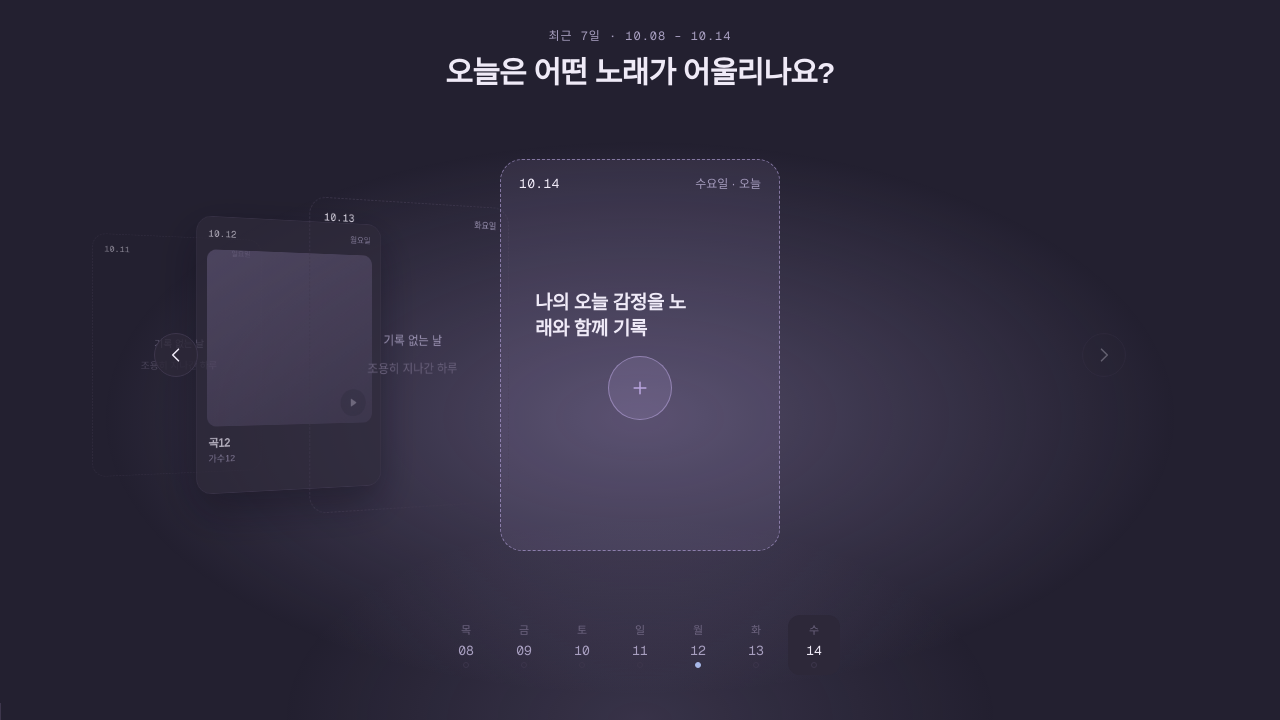
Test: HomeView › headline › looks back at the week when a past day is selected even if today is empty
Click the tab named "10.12 월요일". click: (698, 645)
box: [672,615,724,675]
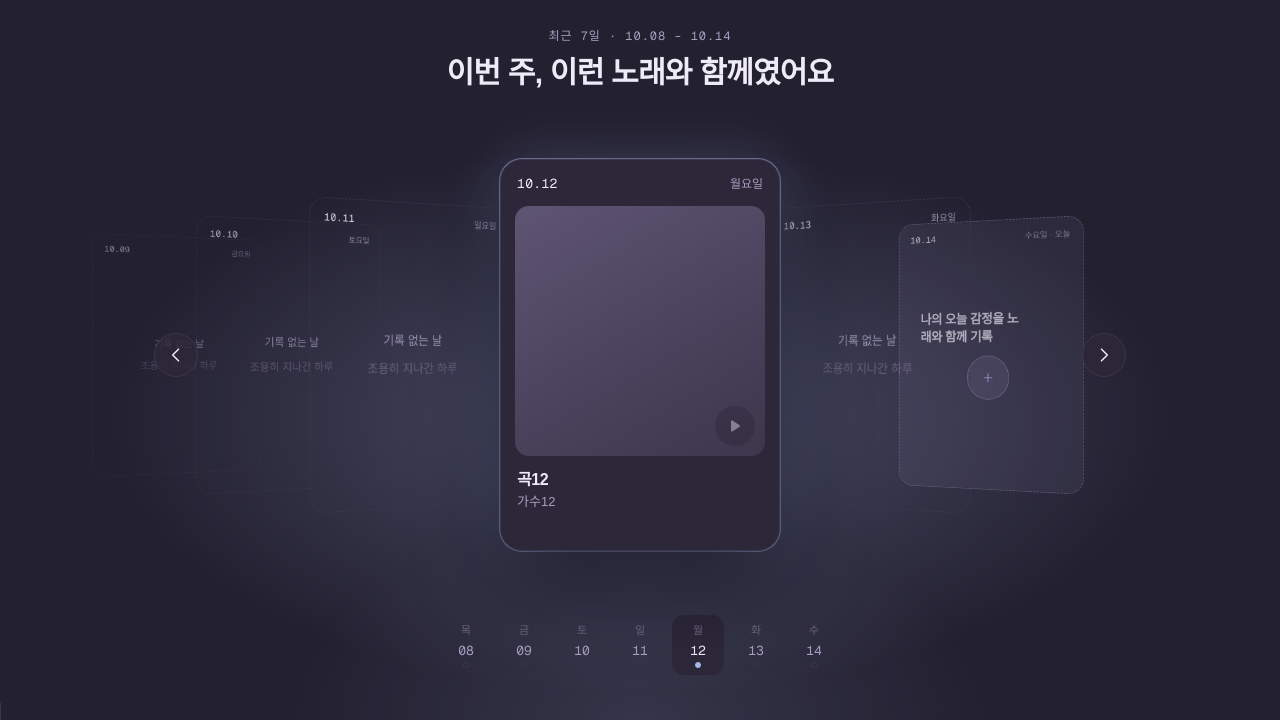
Now the heading "이번 주, 이런 노래와 함께였어요" is shown, box [446,50,834,95]
